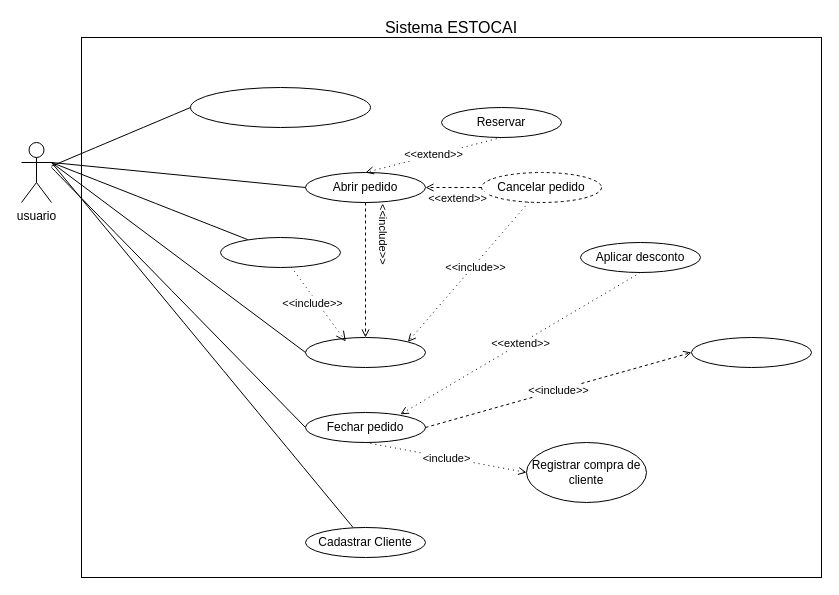
Image size: 839x595. Some labels were removed from this diagram. The shapes that lost their labels are listed below. From the top down, each one's centre as x and y in pixels, then its label:
At point 280,107: "Alterar cardapio".
At point 280,252: "Alterar pedido".
At point 365,352: "Atualizar estoque".
At point 751,352: "Cobrar pedido".
